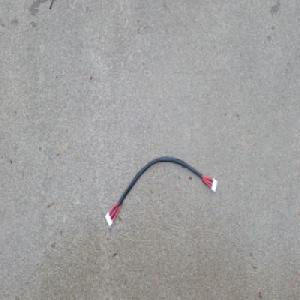Wire: (104, 154, 217, 228)
